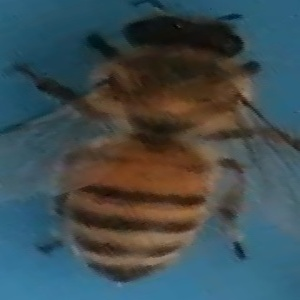bee: (2, 5, 295, 290)
